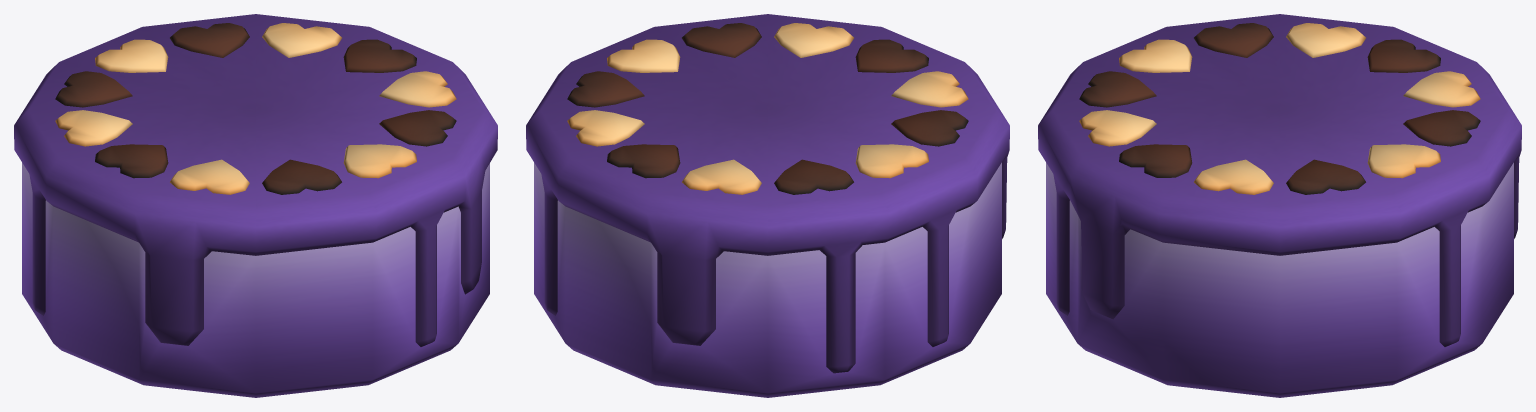
The model's file is m_CakeGlazed01.fbx.
3 views of the same model, side by side, from view 1: azimuth 30°, elevation 25°; view 2: azimuth 150°, elevation 25°; view 3: azimuth 270°, elevation 25° (orthographic).
Parts seen in each view (by area): view 1: m_CakeGlazed06; view 2: m_CakeGlazed06; view 3: m_CakeGlazed06.
Part boxes in pixels (<box>): m_CakeGlazed06: <box>14,14,497,397</box>; m_CakeGlazed06: <box>526,14,1009,397</box>; m_CakeGlazed06: <box>1038,14,1521,397</box>.
Bounding box in the file's own units: 26.07 × 11.72 × 26.07.
